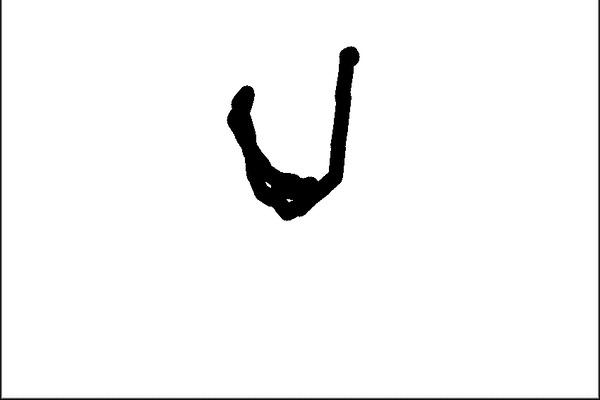U: (210, 26, 377, 228)
